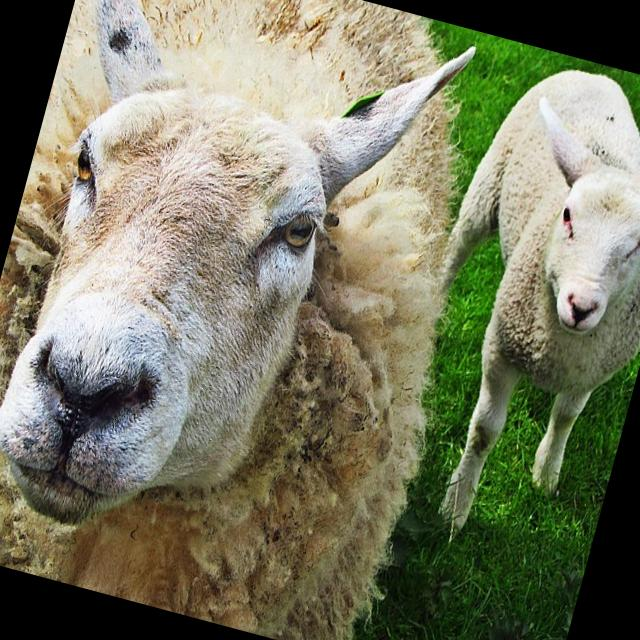sheep: (0, 0, 530, 640), (372, 46, 640, 567)
